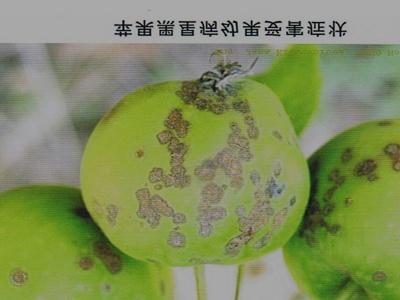rotten apple: (78, 73, 312, 264), (280, 117, 400, 299), (1, 184, 173, 299)
